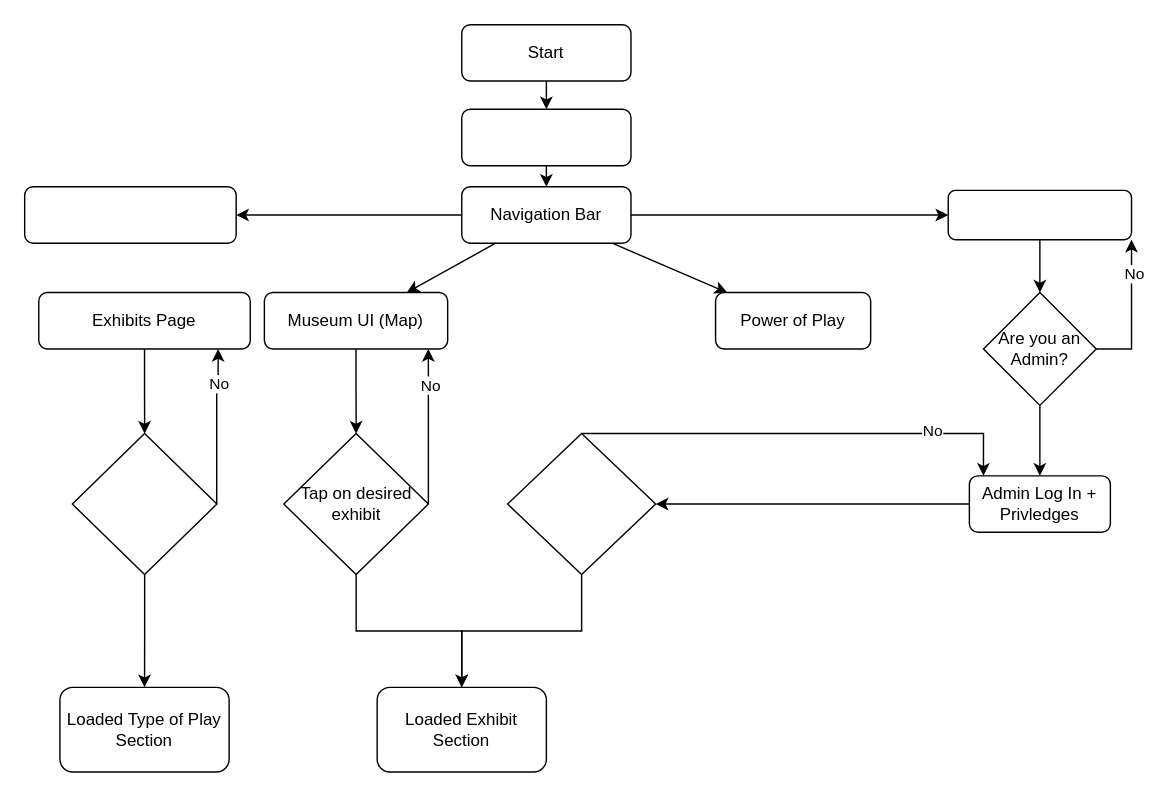
The diagram is 1167 pixels wide and 797 high, and some of its shapes have lost their labels. Here are the shapes that lost their labels. From the top down, the centre of each, then its label:
At (x=545, y=137): "Welcome Page".
At (x=129, y=214): "About Us Website Link".
At (x=1039, y=214): "Settings Page".
At (x=144, y=503): "Tap on type of play".
At (x=581, y=503): "Type Exhibit - Does it exist?".
